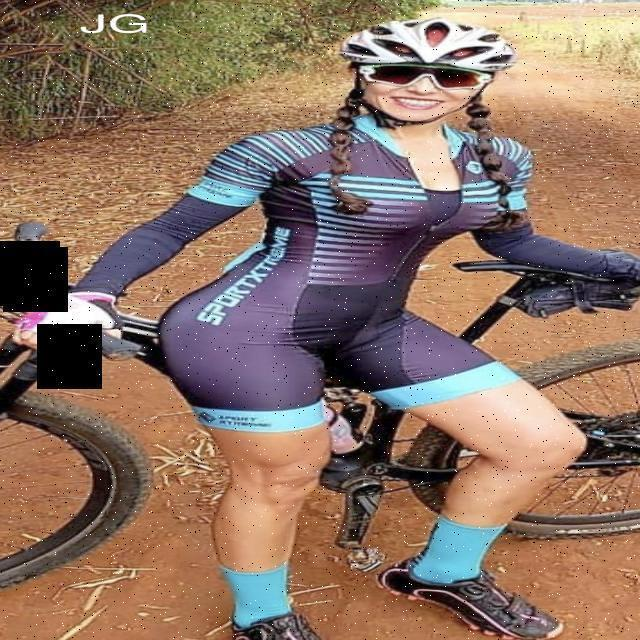helmet: (340, 12, 514, 128)
